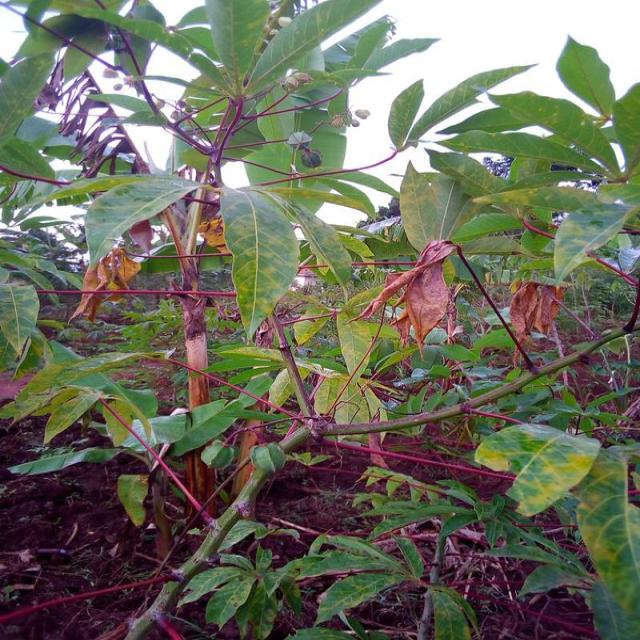cassava leaf: (218, 184, 300, 340), (474, 422, 600, 518), (84, 173, 202, 268)
